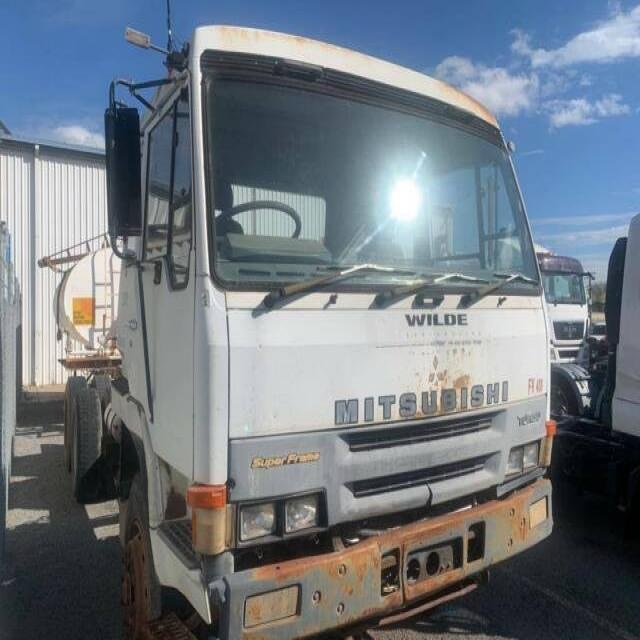Truck: (60, 19, 556, 638)
